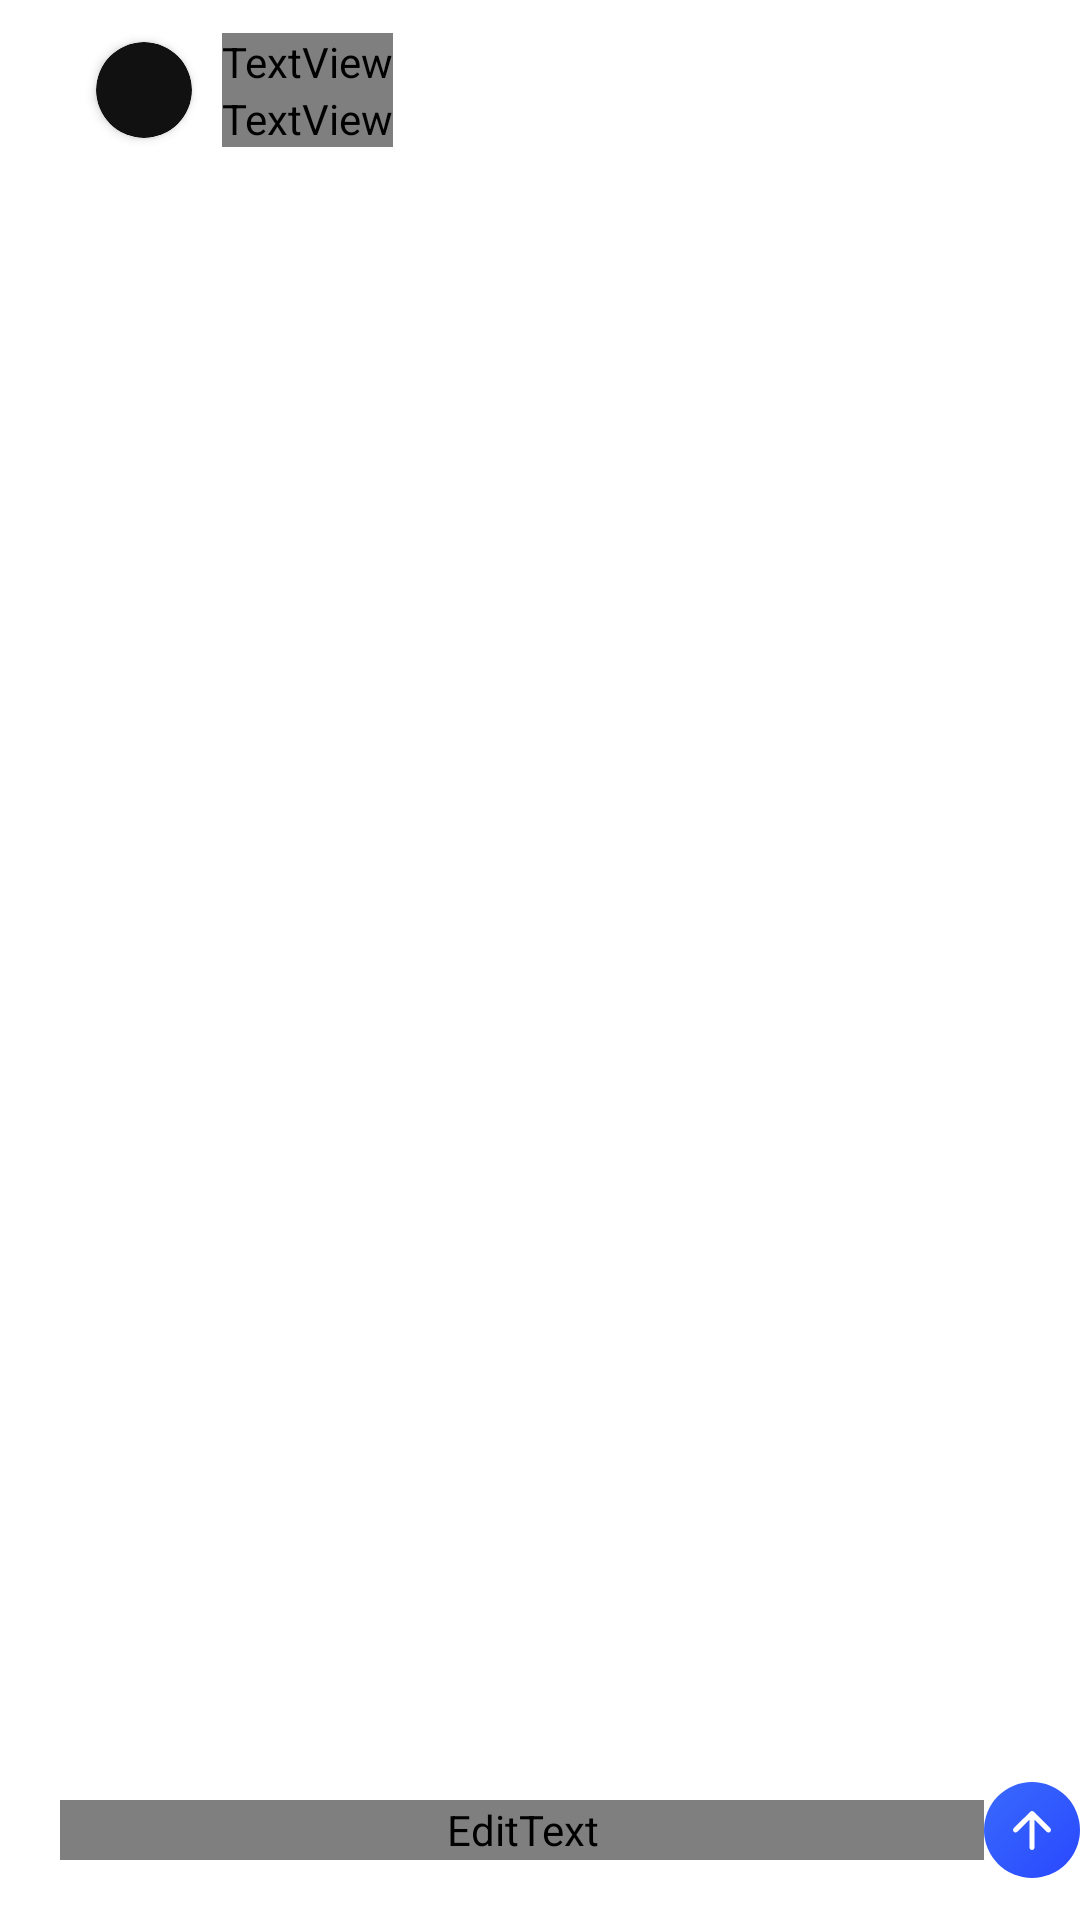

Screen size 1080 × 1920. Icon name, then its center in pixels as point (x, y):
arrow upward: point (1032, 1830)
